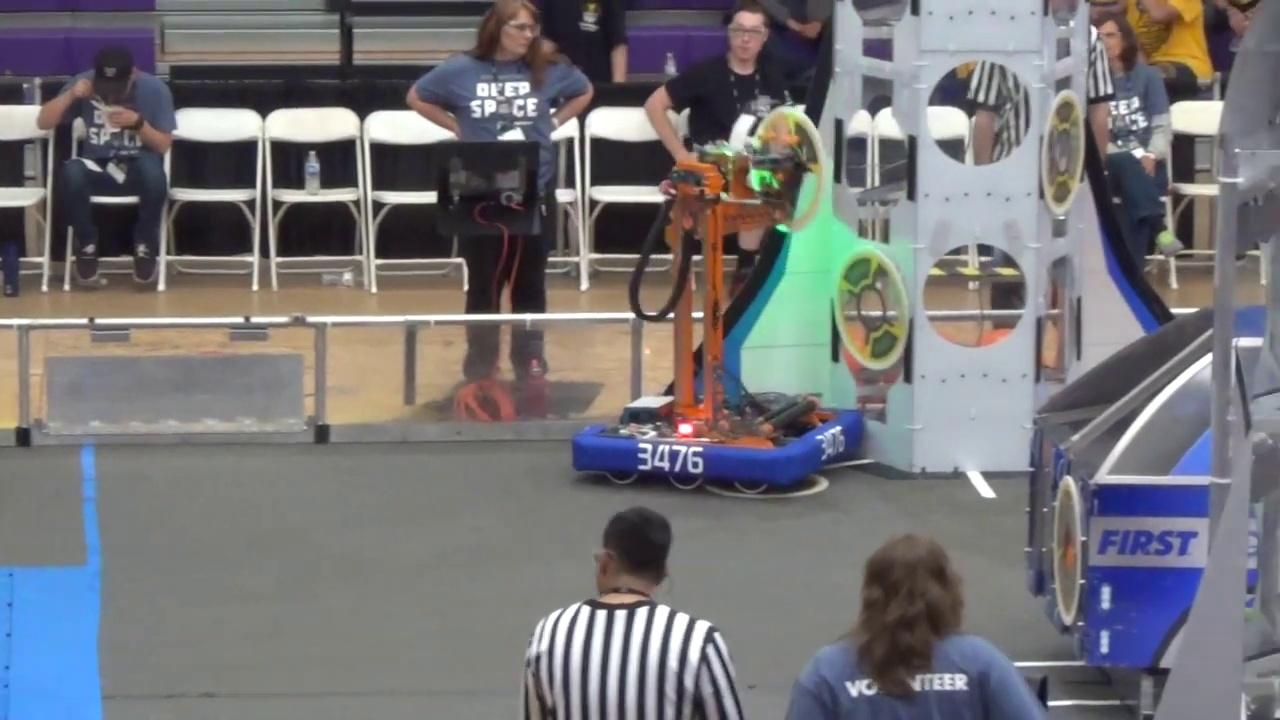robot: (573, 105, 871, 497)
